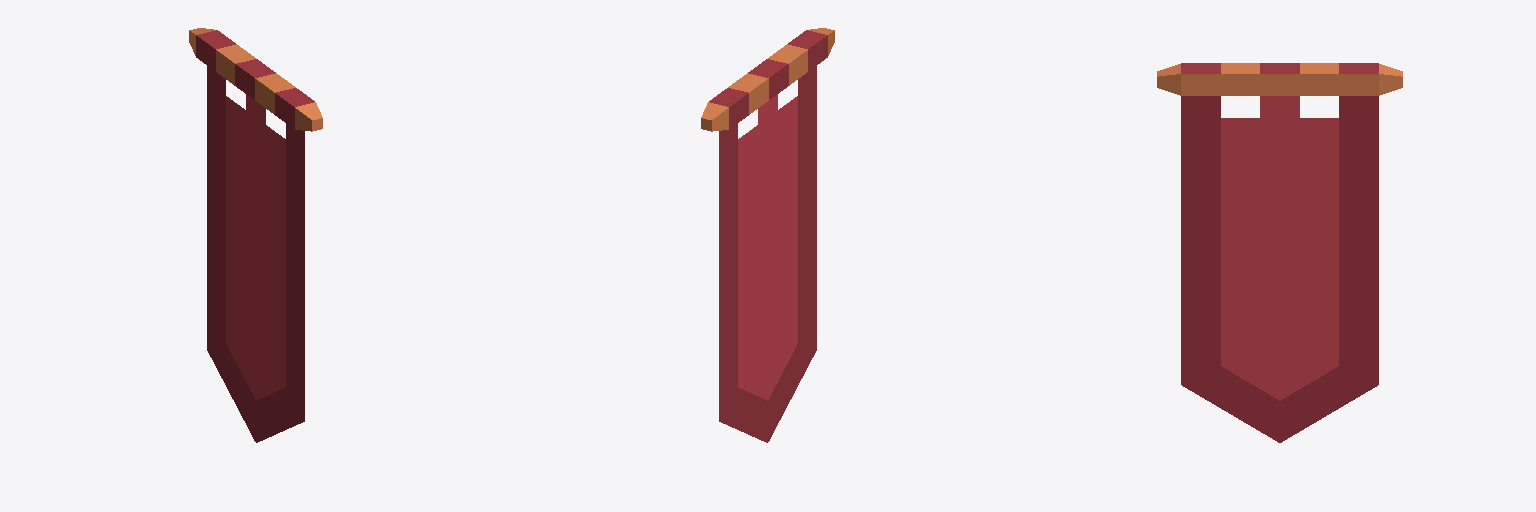
The model's file is bannerRed.obj.
The picture shows the model from 3 angles: view 1: azimuth 30°, elevation 25°; view 2: azimuth 150°, elevation 25°; view 3: azimuth 270°, elevation 25°; orthographic projection.
Visible parts, largest first — view 1: bannerRed; view 2: bannerRed; view 3: bannerRed.
Part boxes in pixels (left/top/right/bottom): bannerRed: left=189, top=28, right=322, bottom=442; bannerRed: left=701, top=28, right=834, bottom=442; bannerRed: left=1157, top=63, right=1402, bottom=442.
Bounding box in the file's own units: 0.05 × 0.8394 × 0.5.